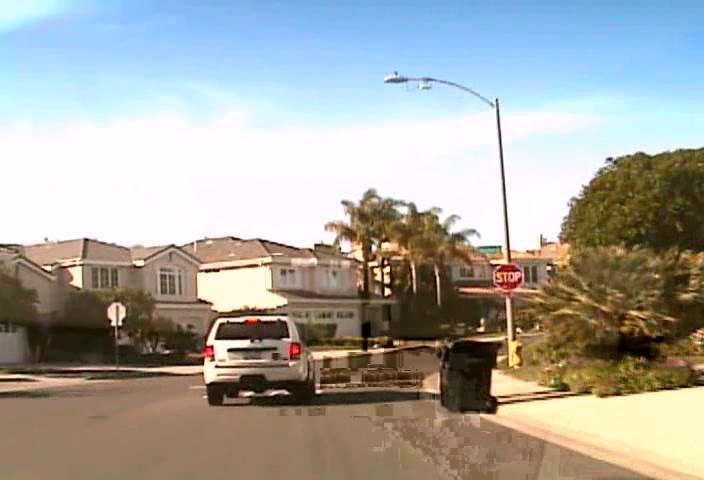stop: (492, 262, 523, 291)
